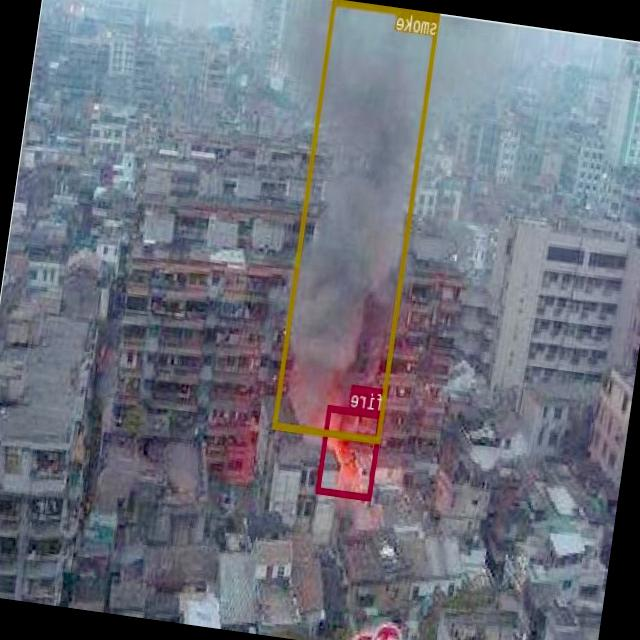fire: (317, 404, 384, 499)
smoke: (273, 0, 441, 443)
